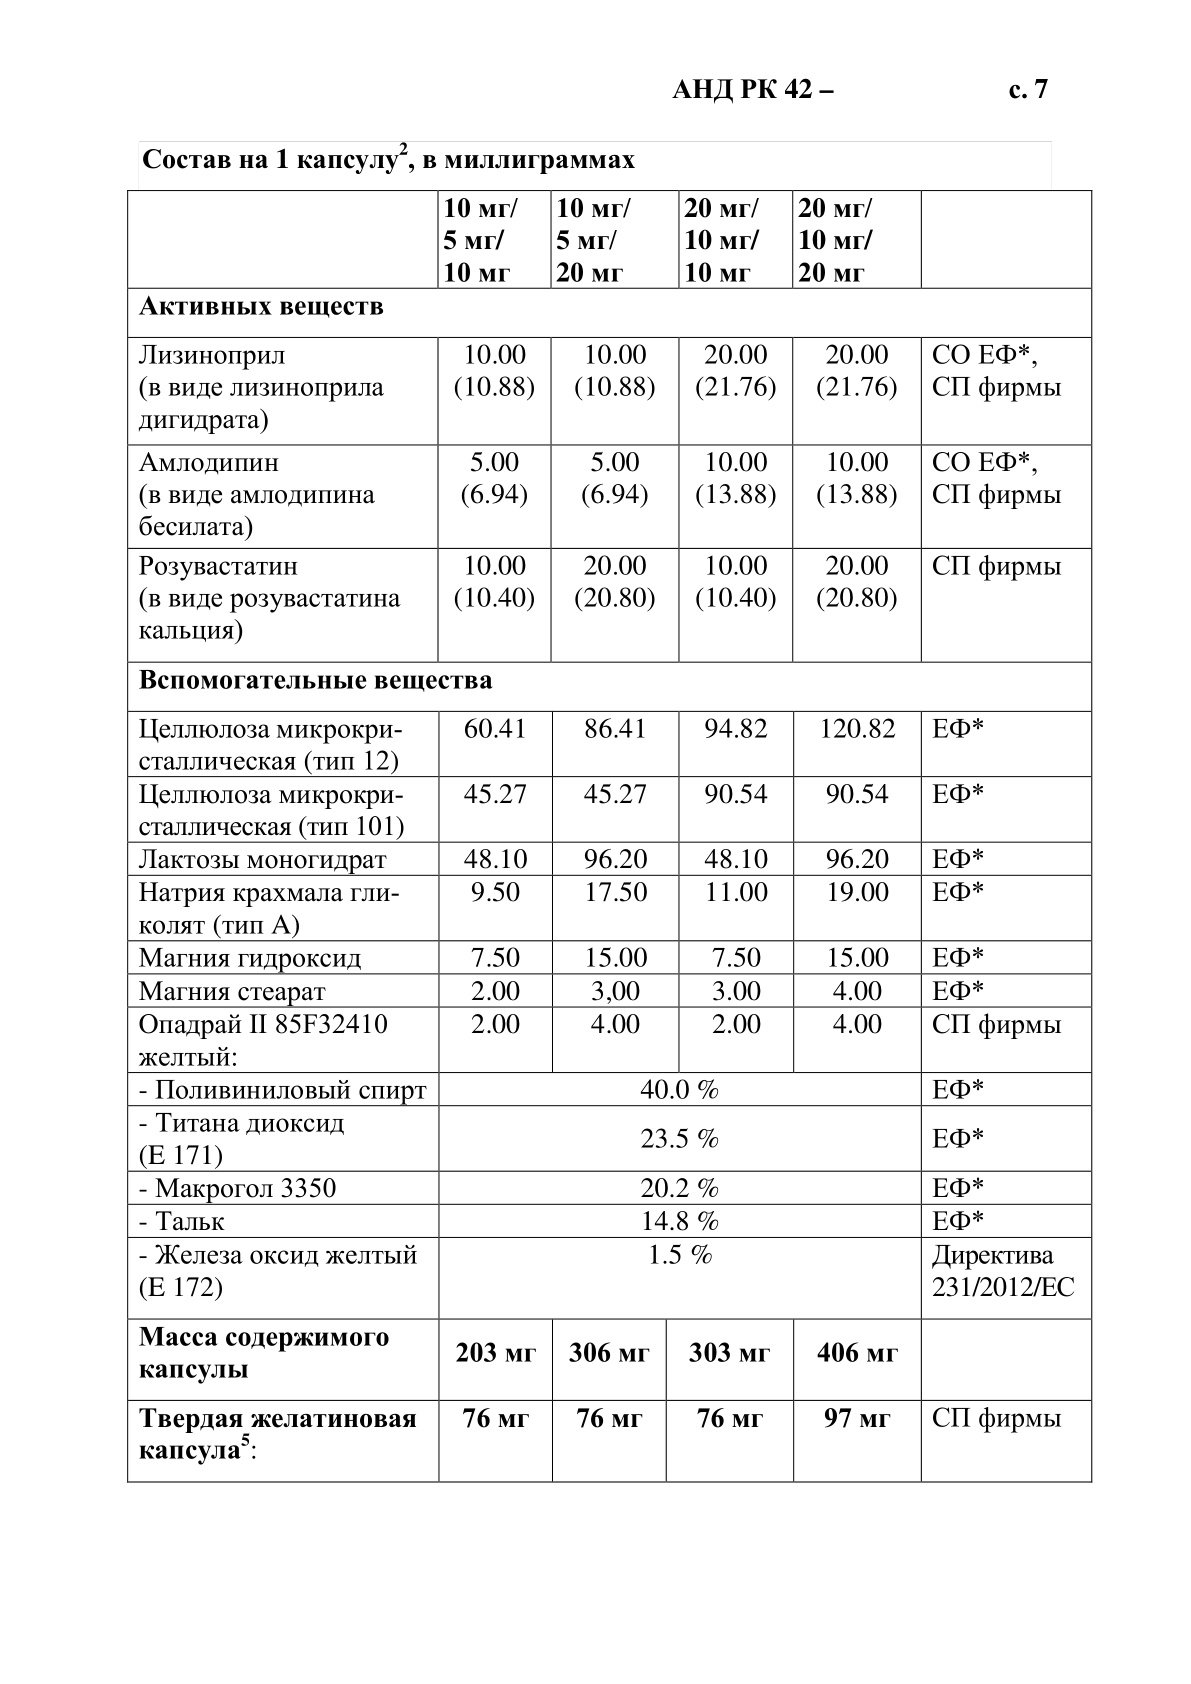merged_cells: (126, 189, 1093, 1484)
